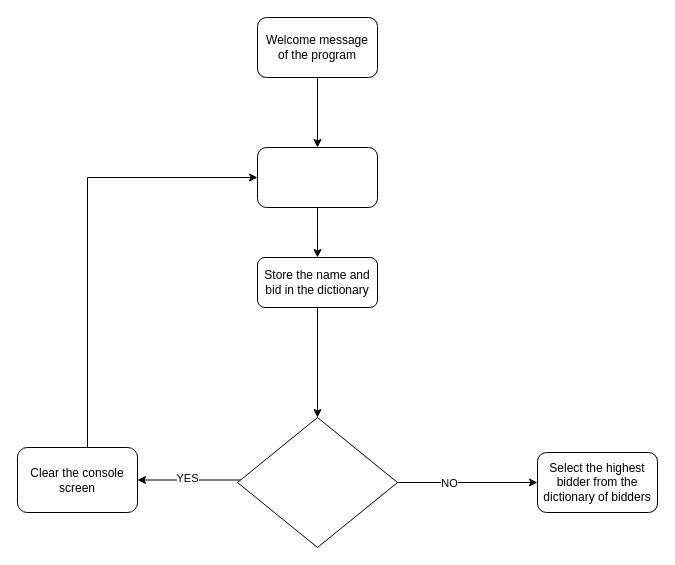
The diagram is 675 pixels wide and 565 high, and some of its shapes have lost their labels. Here are the shapes that lost their labels. From the top down, the centre of each, then its label:
point 317,177: Ask for name and the money bid
point 317,482: Are there are any more bidders?
